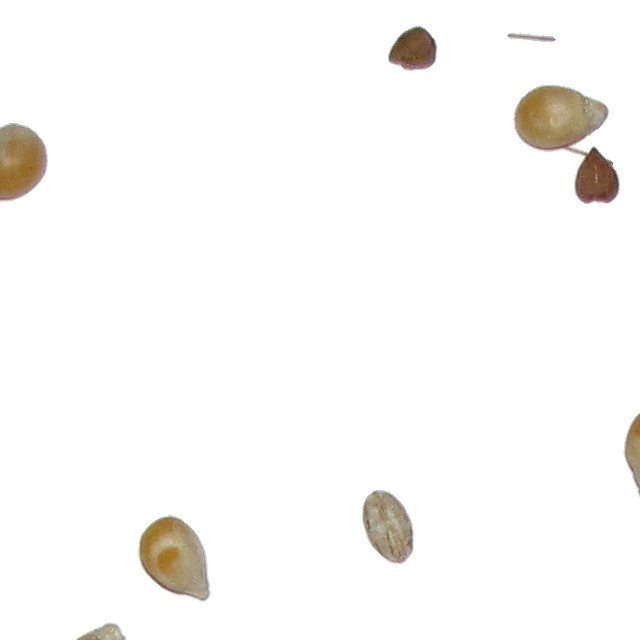buckwheat: (573, 145, 621, 205), (387, 25, 439, 72)
dill: (506, 32, 557, 43)
mais: (512, 84, 610, 157), (137, 514, 212, 603), (622, 400, 640, 506), (56, 621, 133, 640)
other: (360, 489, 415, 565)
